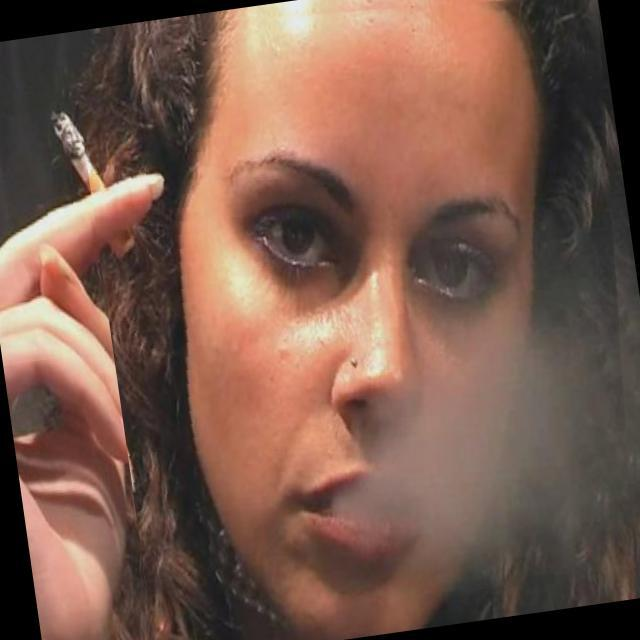cigarette: (17, 80, 156, 286)
